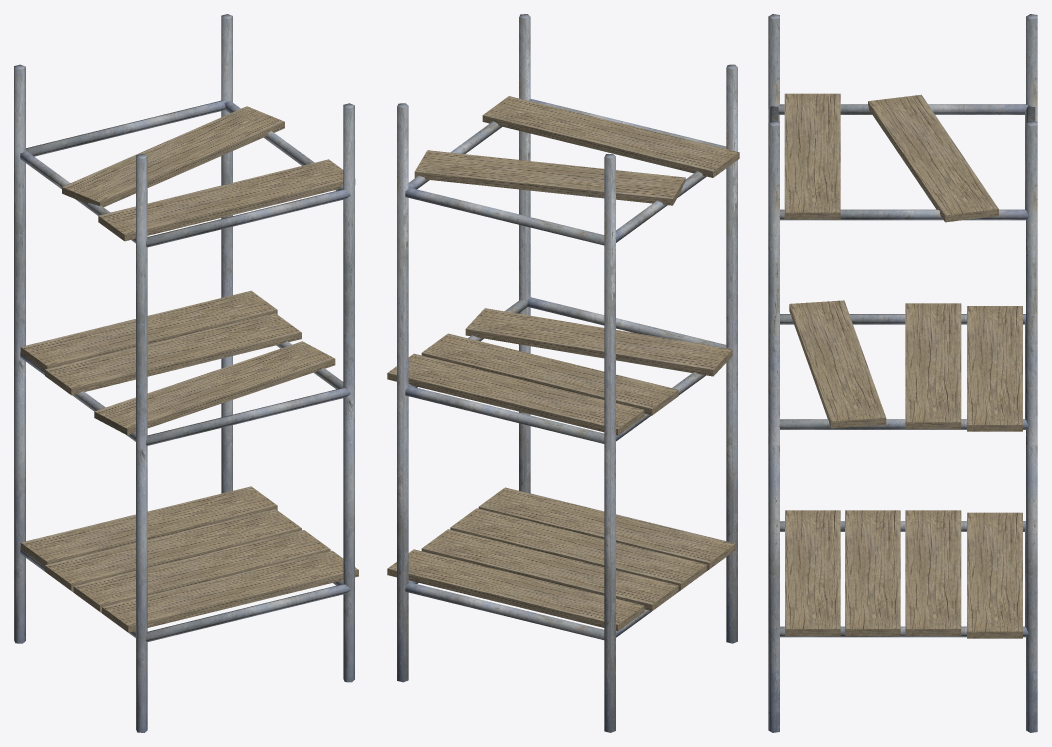
File: plataform2.fbx
The picture shows the model from 3 angles, left to right: view 1: azimuth 30°, elevation 25°; view 2: azimuth 150°, elevation 25°; view 3: azimuth 270°, elevation 25°; orthographic projection. The views are drawn at different scales.
Visible parts, largest first — view 1: plataform; view 2: plataform; view 3: plataform.
Part boxes in pixels (x1=…): plataform: x1=14, y1=14, x2=358, y2=732; plataform: x1=387, y1=14, x2=739, y2=732; plataform: x1=768, y1=14, x2=1037, y2=732.
Bounding box in the file's own units: 2.56 × 5.83 × 2.35.
